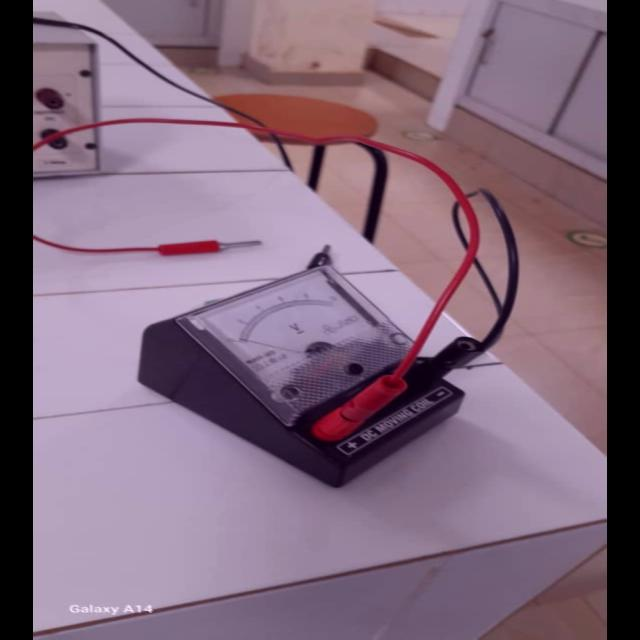Voltmeter: (137, 241, 553, 495)
